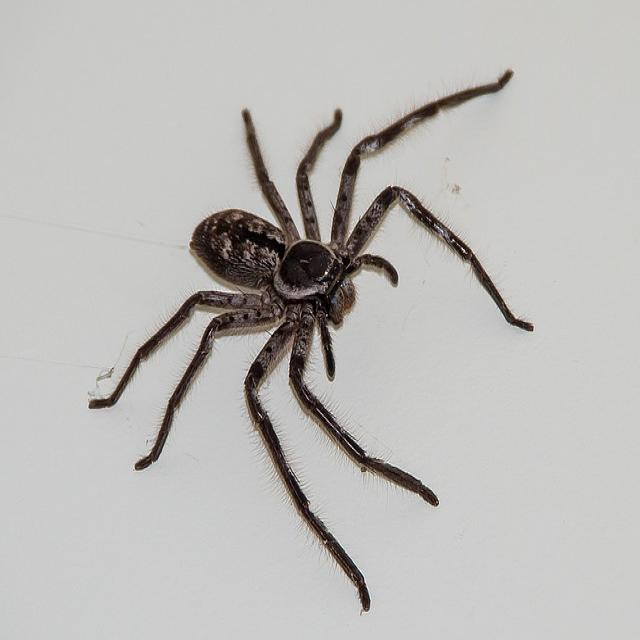spyder: (89, 71, 534, 608)
